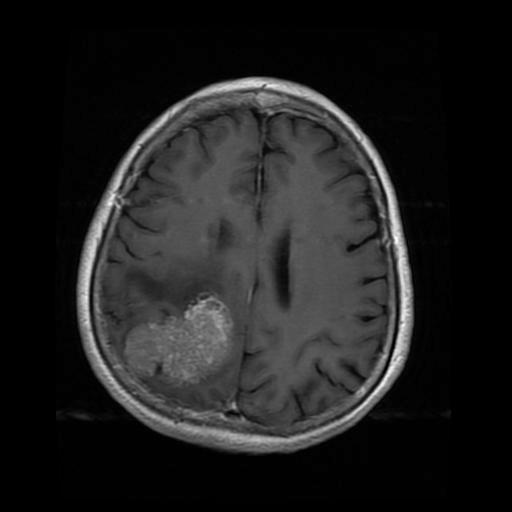Tumour-Meningioma: (107, 292, 269, 395)
